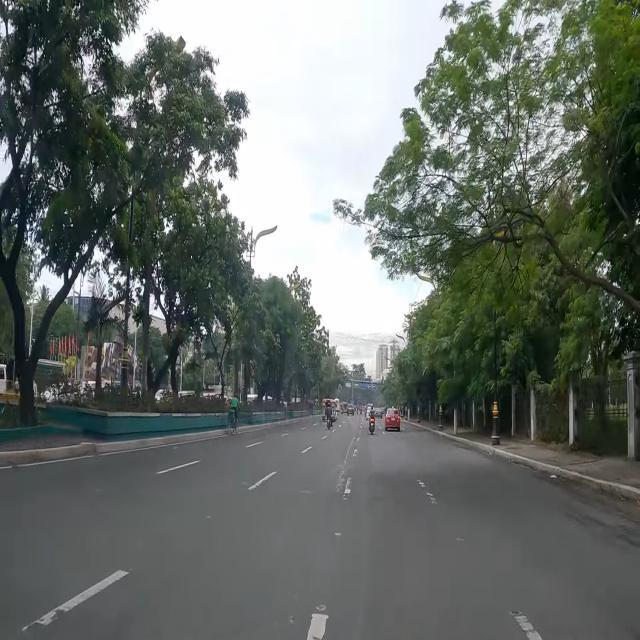bike: (229, 392, 242, 436)
car: (385, 408, 400, 433)
jeepney: (322, 398, 337, 422)
motorcycle: (368, 404, 376, 434), (326, 402, 333, 430), (360, 405, 363, 415)
